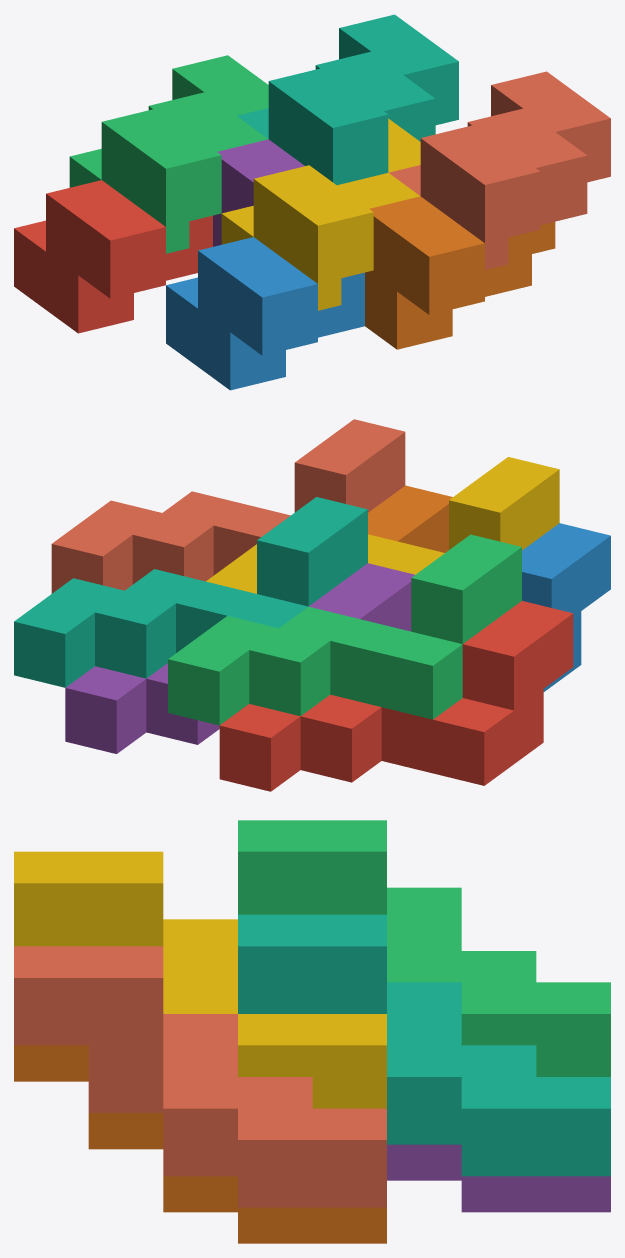
File: tiling.obj
The picture shows the model from 3 angles, top to bottom: view 1: azimuth 30°, elevation 25°; view 2: azimuth 150°, elevation 25°; view 3: azimuth 270°, elevation 25°; orthographic projection. The views are drawn at different scales.
Parts seen in each view (by area): view 1: copy_1_domain_8, copy_1_domain_7, copy_1_domain_3, copy_1_domain_2, copy_1_domain_1, copy_1_domain_6, copy_1_domain_4, copy_1_domain_5; view 2: copy_1_domain_3, copy_1_domain_1, copy_1_domain_7, copy_1_domain_8, copy_1_domain_5, copy_1_domain_4, copy_1_domain_2, copy_1_domain_6; view 3: copy_1_domain_8, copy_1_domain_7, copy_1_domain_3, copy_1_domain_4, copy_1_domain_6, copy_1_domain_5.
Part boxes in pixels (x1,y1,x2,y2): copy_1_domain_8: [389, 71, 610, 269]; copy_1_domain_7: [237, 14, 458, 185]; copy_1_domain_3: [69, 55, 268, 253]; copy_1_domain_2: [166, 237, 364, 390]; copy_1_domain_1: [14, 180, 212, 333]; copy_1_domain_6: [365, 196, 555, 349]; copy_1_domain_4: [221, 118, 420, 310]; copy_1_domain_5: [213, 139, 304, 246]; copy_1_domain_3: [168, 534, 521, 725]; copy_1_domain_1: [219, 601, 573, 791]; copy_1_domain_7: [14, 497, 367, 687]; copy_1_domain_8: [51, 419, 405, 593]; copy_1_domain_5: [65, 563, 414, 753]; copy_1_domain_4: [206, 457, 559, 593]; copy_1_domain_2: [522, 523, 610, 691]; copy_1_domain_6: [368, 485, 452, 552]; copy_1_domain_8: [14, 946, 386, 1207]; copy_1_domain_7: [238, 914, 610, 1176]; copy_1_domain_3: [238, 820, 610, 1076]; copy_1_domain_4: [14, 851, 386, 1108]; copy_1_domain_6: [14, 1045, 386, 1243]; copy_1_domain_5: [387, 1144, 610, 1212].
Size of the model in its own units: 9 by 3 by 8.
